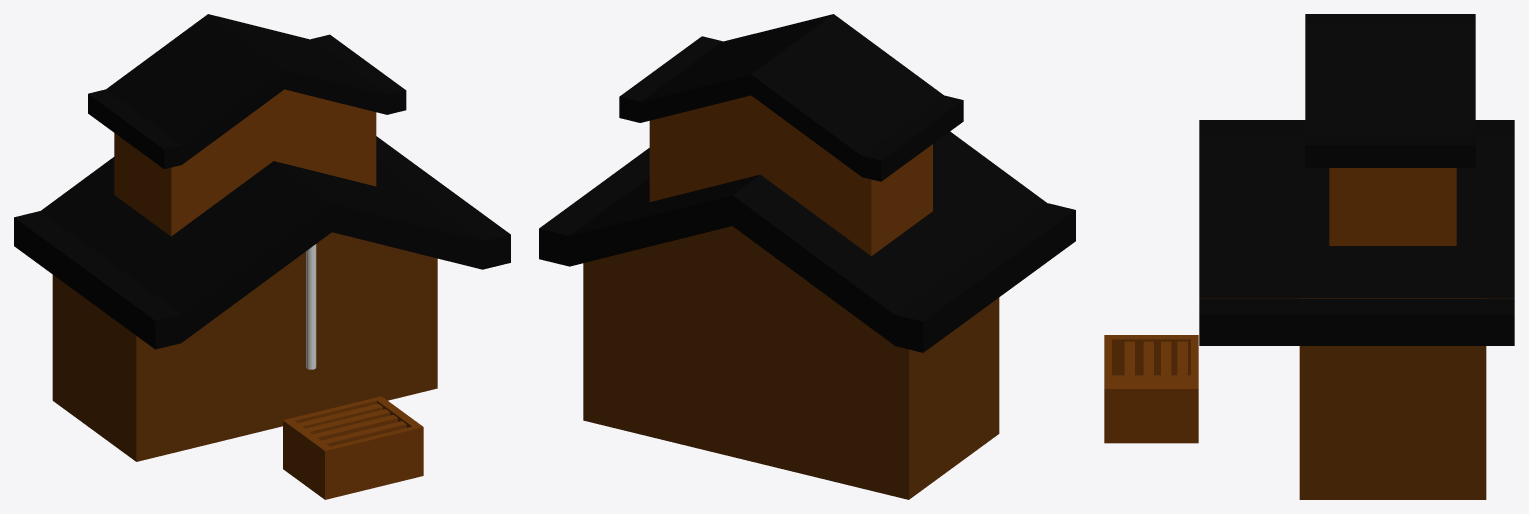
3 views of the same model, side by side, from view 1: azimuth 30°, elevation 25°; view 2: azimuth 150°, elevation 25°; view 3: azimuth 270°, elevation 25° (orthographic). The views are drawn at different scales.
Visible parts, largest first — view 1: 立方体.001, 立方体, 立方体.002, 円柱, 立方体.005, 立方体.003, 立方体.004, 立方体.006; view 2: 立方体.001, 立方体; view 3: 立方体.001, 立方体, 立方体.002, 立方体.006, 立方体.003, 立方体.004, 立方体.005.
Part boxes in pixels (bbox=[...]): 立方体.001: bbox=[14, 136, 510, 461]; 立方体: bbox=[88, 14, 406, 236]; 立方体.002: bbox=[283, 396, 423, 499]; 円柱: bbox=[306, 244, 316, 369]; 立方体.005: bbox=[313, 414, 397, 440]; 立方体.003: bbox=[321, 421, 406, 446]; 立方体.004: bbox=[305, 409, 390, 434]; 立方体.006: bbox=[298, 403, 382, 428]; 立方体.001: bbox=[539, 131, 1075, 499]; 立方体: bbox=[619, 14, 963, 255]; 立方体.001: bbox=[1199, 120, 1514, 499]; 立方体: bbox=[1305, 14, 1475, 245]; 立方体.002: bbox=[1104, 335, 1198, 443]; 立方体.006: bbox=[1177, 341, 1187, 384]; 立方体.003: bbox=[1124, 341, 1134, 384]; 立方体.004: bbox=[1161, 341, 1171, 384]; 立方体.005: bbox=[1143, 341, 1153, 384].
Size of the model in its own units: 721 by 685 by 645.
